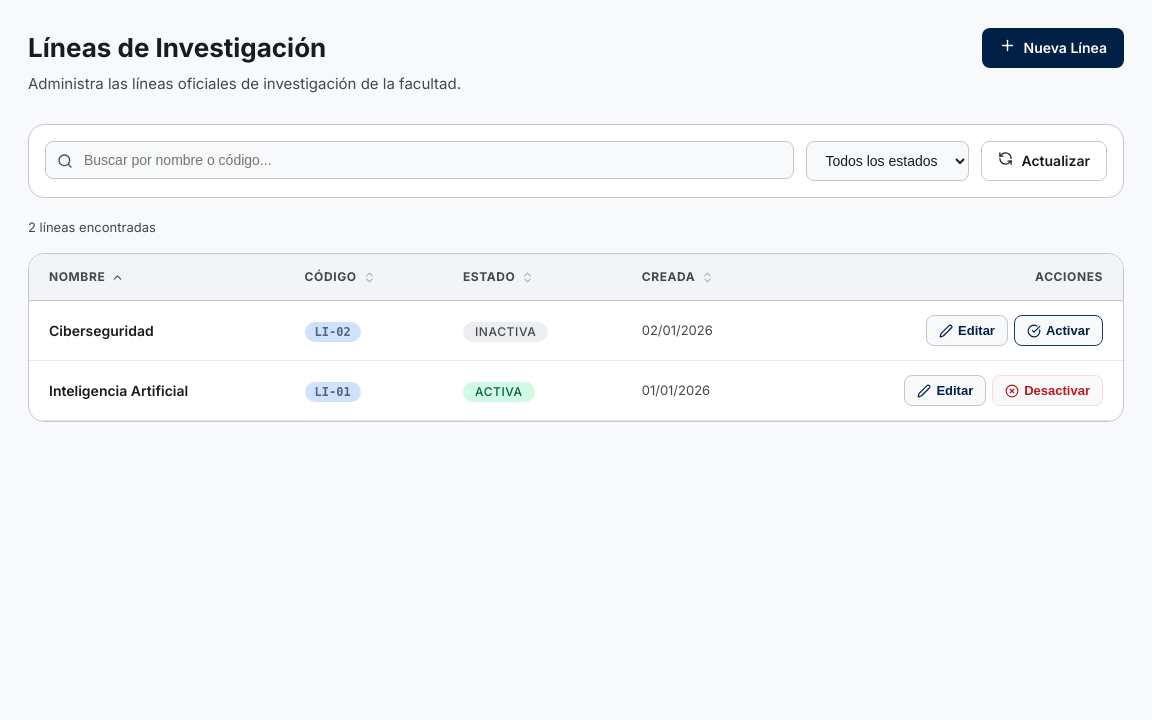
ResearchLines page › opens edit modal for a line
Expected: the text "Inteligencia Artificial" is shown, [29,360,285,420]
Click the button "Editar" in the row of "Ciberseguridad".
click(967, 330)  # box [926,315,1008,346]
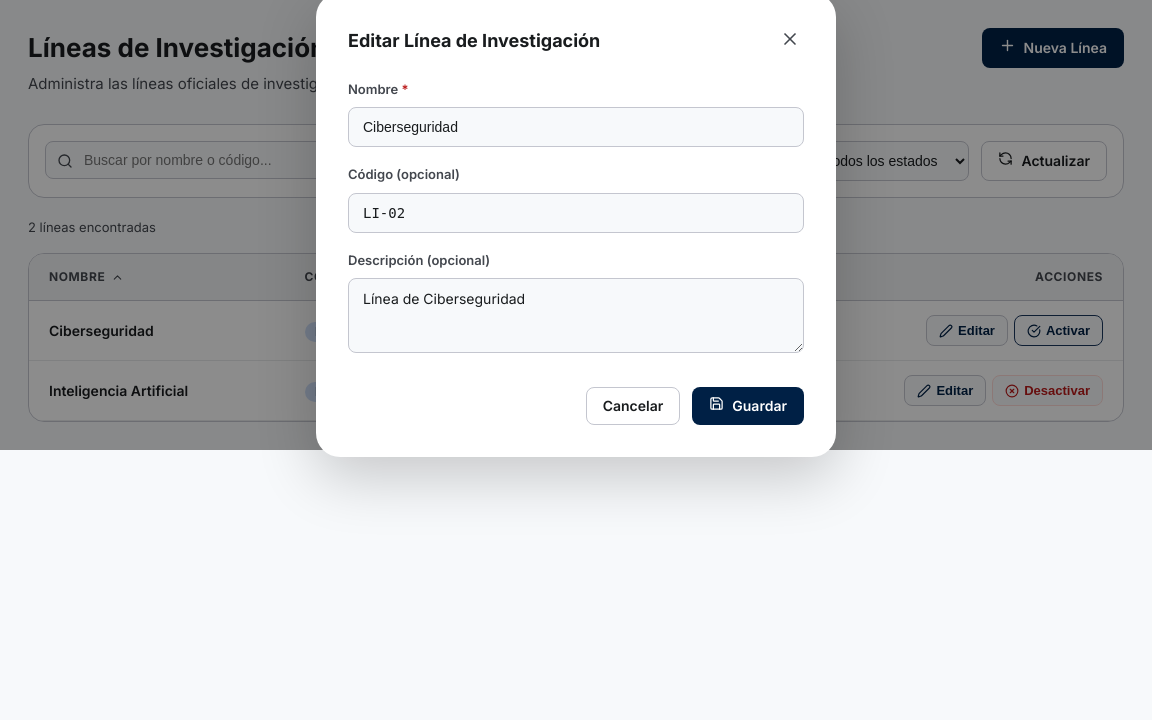
Now the heading "Editar Línea de Investigación" is shown, box [348,27,600,54]
